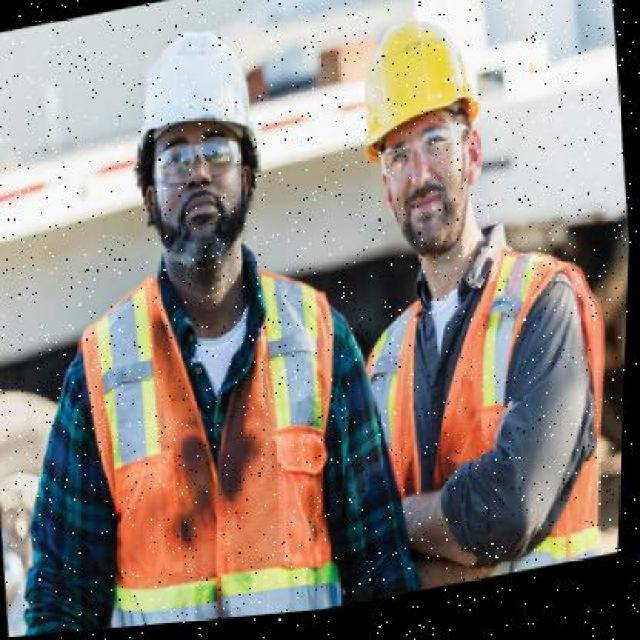helmet: (122, 23, 266, 177), (356, 23, 481, 144)
vest: (65, 237, 373, 633), (346, 242, 630, 606)
